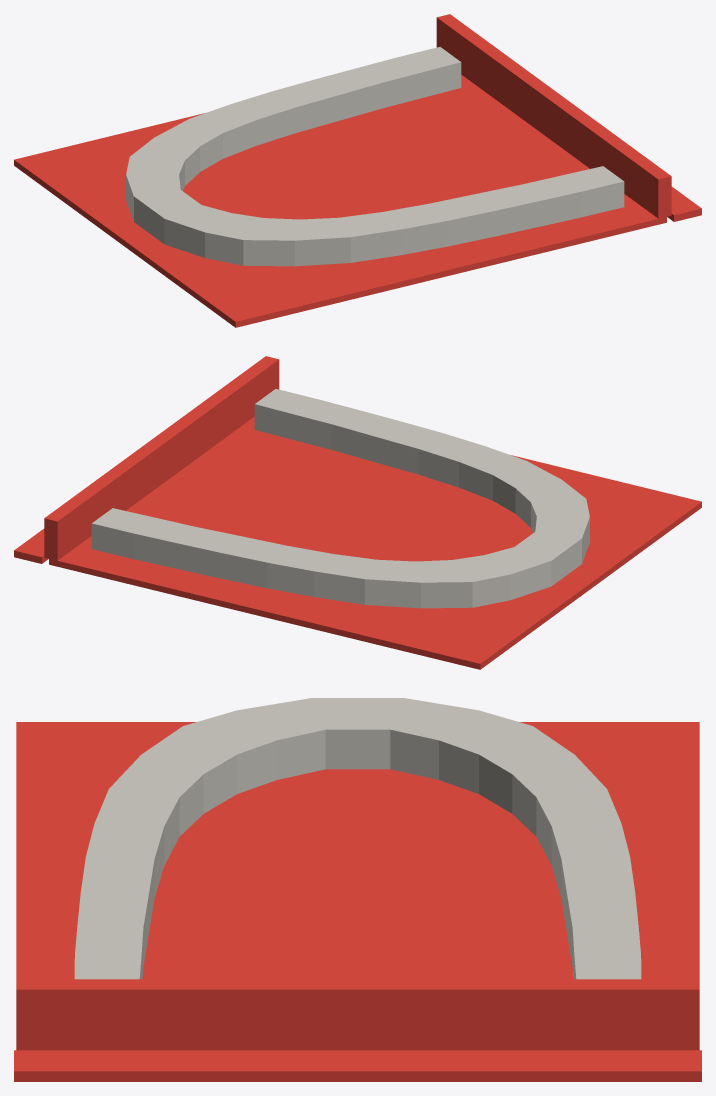
The model's file is Catenaria.fbx.
3 views of the same model, one above another, from view 1: azimuth 30°, elevation 25°; view 2: azimuth 150°, elevation 25°; view 3: azimuth 270°, elevation 25° (orthographic). The views are drawn at different scales.
Parts seen in each view (by area): view 1: Respaldar arco, C 7, C 8, C 6, C 4, C 5, C 3, I 4, I 3, I 5, C 10, C 1 (+11 smaller); view 2: Respaldar arco, I 7, I 8, I 6, I 4, I 5, I 3, C 4, C 3, C 5, I 10, I 1 (+11 smaller); view 3: Respaldar arco, base arco, C, C 10, I 10, C 9, I 9, C 8, I 8, C 7, I 7, C 6 (+11 smaller).
Boxes of the visible parts, x1,y1,x2,y2 form: Respaldar arco: (14, 14, 671, 327); C 7: (295, 217, 350, 266); C 8: (243, 218, 300, 266); C 6: (339, 212, 401, 262); C 4: (429, 194, 496, 246); C 5: (383, 203, 448, 254); C 3: (477, 184, 542, 235); I 4: (272, 79, 340, 132); I 3: (317, 67, 384, 120); I 5: (231, 91, 297, 145); C 10: (164, 205, 231, 257); C 1: (560, 166, 624, 217); Respaldar arco: (44, 356, 701, 669); I 7: (365, 559, 420, 608); I 8: (415, 560, 472, 608); I 6: (314, 554, 376, 604); I 4: (219, 536, 286, 588); I 5: (267, 545, 332, 596); I 3: (173, 526, 238, 577); C 4: (375, 421, 443, 474); C 3: (331, 409, 398, 462); C 5: (418, 433, 484, 487); I 10: (484, 547, 551, 599); I 1: (91, 508, 155, 559); Respaldar arco: (16, 722, 699, 1050); base arco: (14, 1050, 701, 1081); C: (311, 698, 404, 769); C 10: (236, 698, 325, 779); I 10: (390, 698, 479, 779); C 9: (183, 710, 276, 793); I 9: (439, 710, 532, 793); C 8: (141, 726, 236, 813); I 8: (479, 726, 574, 813); C 7: (109, 755, 203, 836); I 7: (512, 755, 606, 836); C 6: (94, 789, 179, 865).
Size of the model in its own units: 109 by 131 by 12.29.
